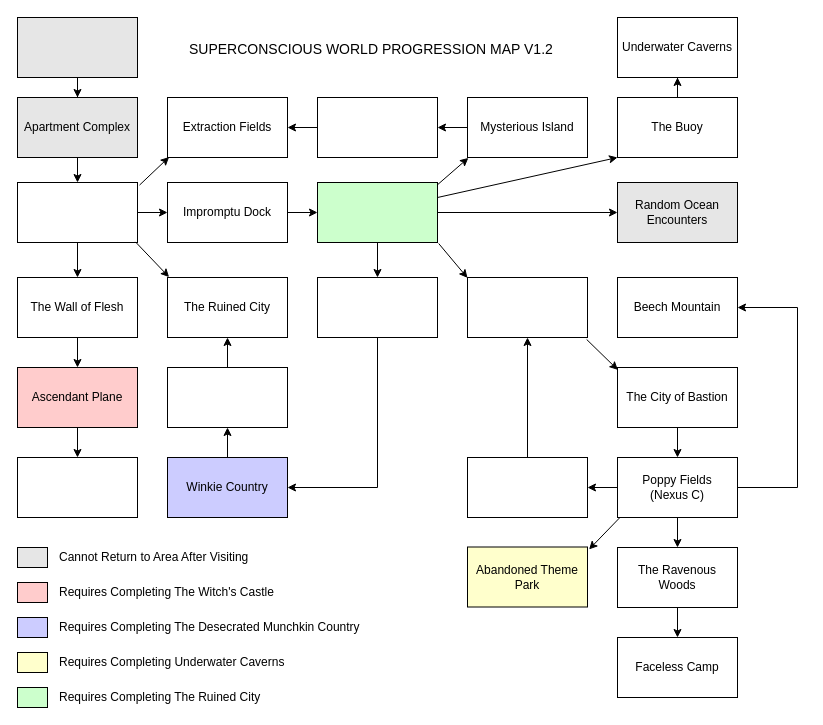
The diagram is 823 pixels wide and 725 high, and some of its shapes have lost their labels. Here are the shapes that lost their labels. From the top down, the box of each, then its label:
(16, 16, 138, 78): Introduction/ Character Creation
(316, 96, 438, 158): Spawning Pits
(16, 182, 138, 242): Superconscious Shores (Nexus A)
(316, 182, 438, 242): Ocean (Nexus B)
(316, 276, 438, 338): The Brick Road Dropoff
(466, 276, 588, 338): The Brick Road Beach
(166, 366, 288, 428): The Witch's Castle
(16, 456, 138, 518): Nervous System
(466, 456, 588, 518): Desecrated Munchkin Country
